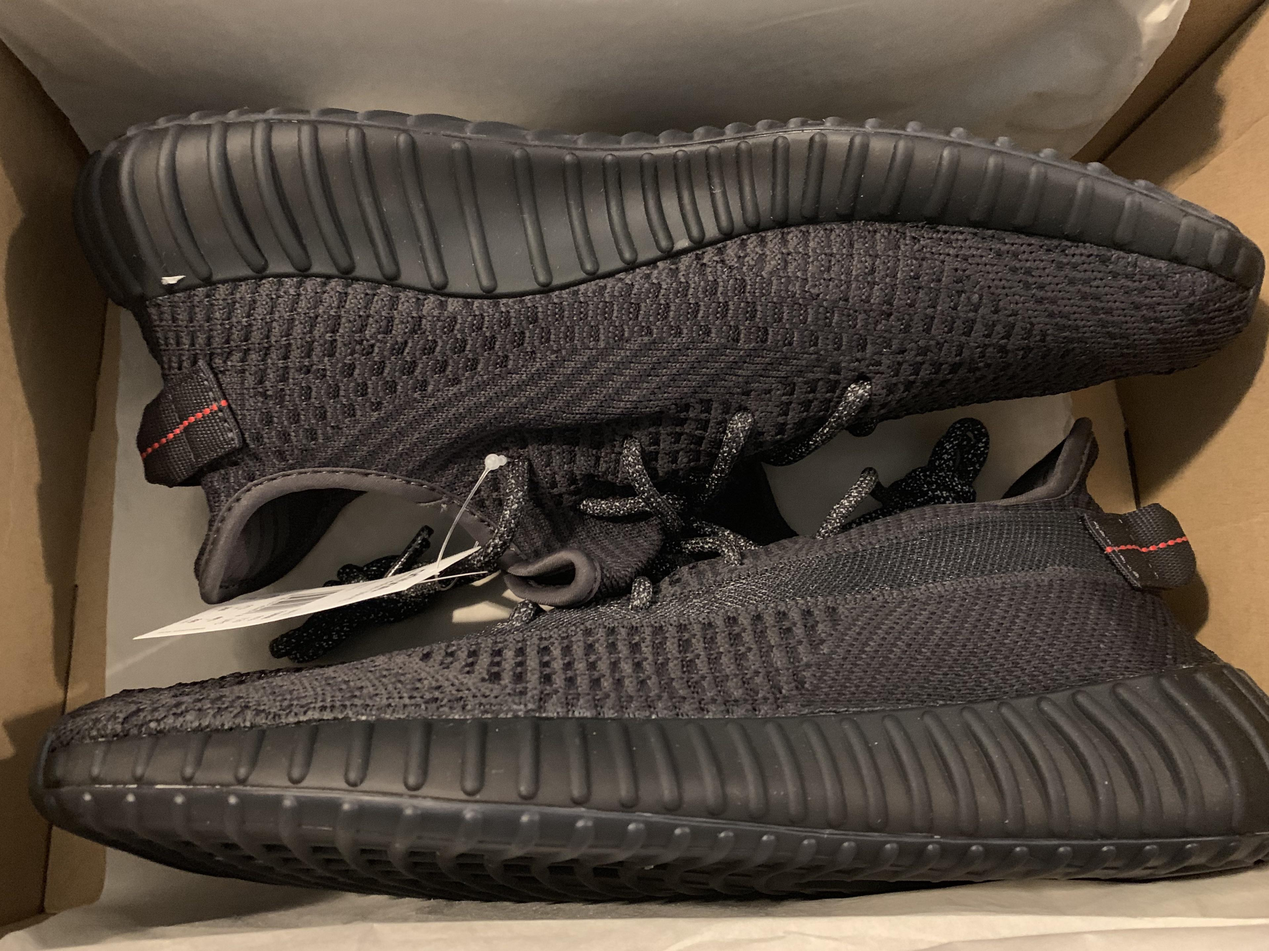sneaker: (0, 447, 1269, 951), (64, 7, 1269, 520)
